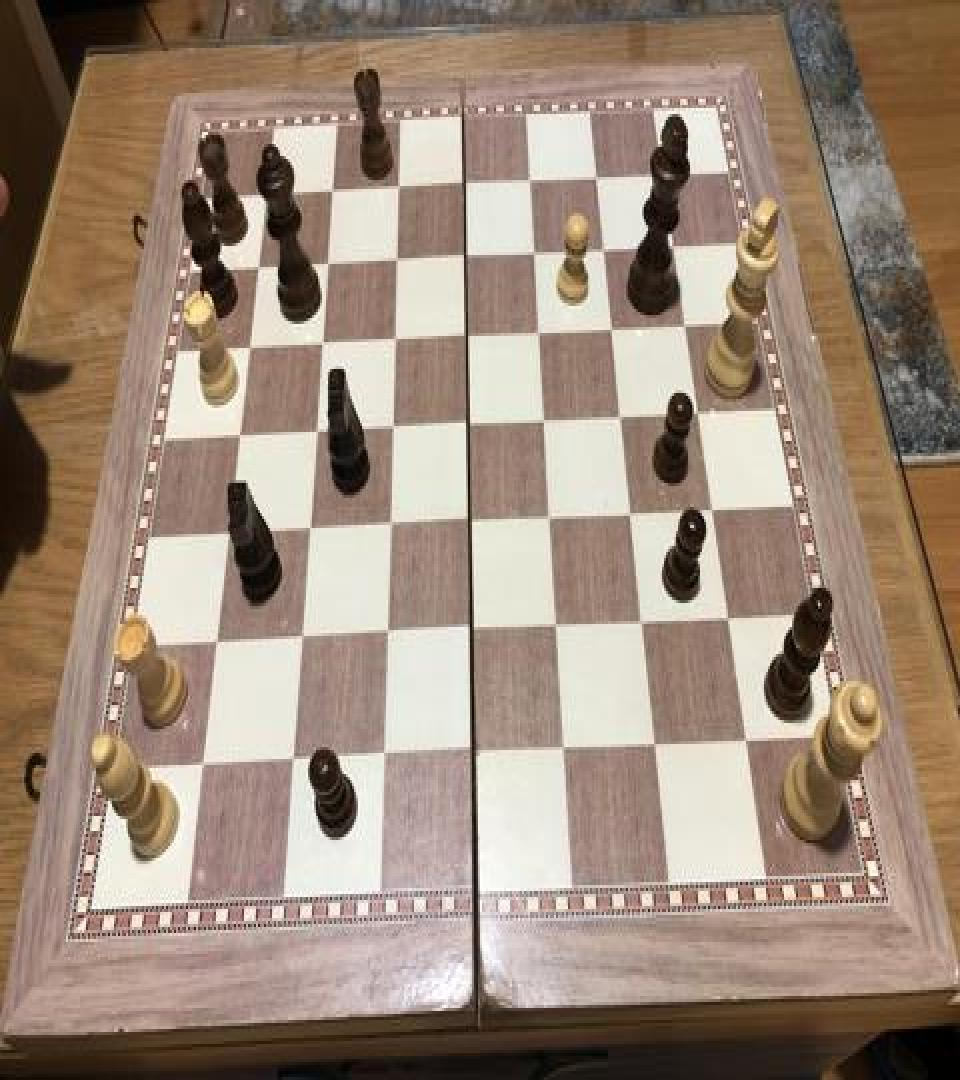xcorner: (216, 514, 240, 551), (374, 616, 398, 653), (203, 625, 227, 662), (644, 727, 668, 764), (652, 154, 676, 190), (586, 158, 610, 194), (520, 160, 544, 196), (454, 164, 478, 200), (388, 168, 412, 204), (323, 171, 347, 207), (257, 174, 281, 210), (662, 226, 686, 262), (593, 230, 617, 266), (524, 232, 548, 268), (455, 237, 479, 273), (386, 240, 410, 276), (317, 243, 341, 279), (248, 248, 272, 284), (674, 304, 698, 340), (601, 309, 625, 345), (528, 312, 552, 348), (456, 316, 480, 352), (383, 320, 407, 356), (311, 324, 335, 360), (239, 327, 263, 363), (687, 393, 711, 429), (610, 396, 634, 432), (533, 400, 557, 436), (457, 404, 481, 440), (381, 408, 405, 444), (228, 416, 252, 452), (701, 490, 725, 526), (620, 495, 644, 531), (539, 498, 563, 534), (458, 502, 482, 538), (378, 507, 402, 543), (297, 510, 321, 546), (717, 600, 741, 636), (631, 604, 655, 640), (545, 609, 569, 645), (460, 612, 484, 648), (289, 621, 313, 657), (735, 723, 759, 759), (552, 732, 576, 768), (461, 736, 485, 772), (370, 741, 394, 777), (279, 746, 303, 782), (188, 750, 212, 786), (304, 413, 328, 448)
